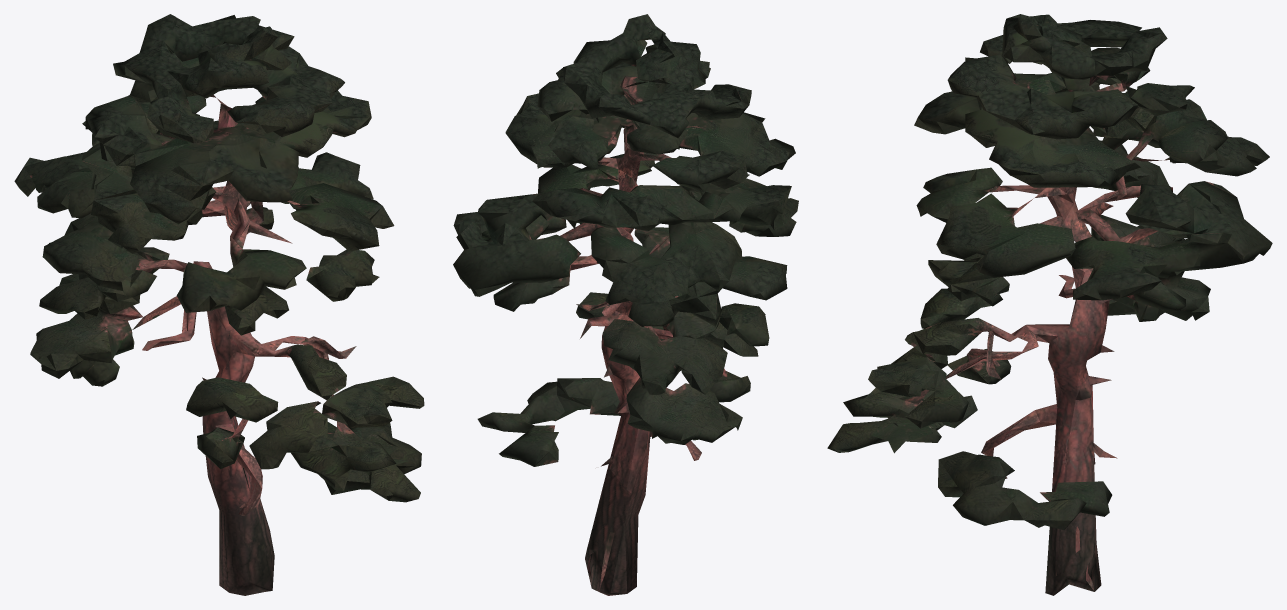
File: Japanese_Pine_v1_1K.glb
3 views of the same model, side by side, from view 1: azimuth 30°, elevation 25°; view 2: azimuth 150°, elevation 25°; view 3: azimuth 270°, elevation 25° (orthographic). The views are drawn at different scales.
Visible parts, largest first — view 1: output_unwrapped; view 2: output_unwrapped; view 3: output_unwrapped.
Boxes of the visible parts, box(x1,y1,x2,y2) form: output_unwrapped: box(14, 14, 424, 595); output_unwrapped: box(453, 14, 798, 595); output_unwrapped: box(827, 14, 1272, 595).
Bounding box in the file's own units: 5.89 × 10 × 7.06.
Materials: 1 (1 with a texture image).
